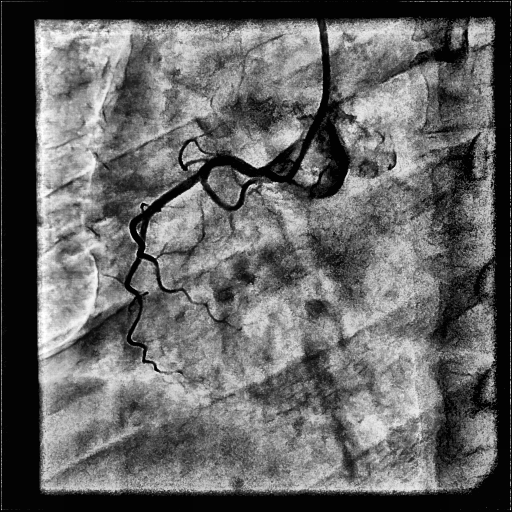rca: (125, 156, 269, 375)
